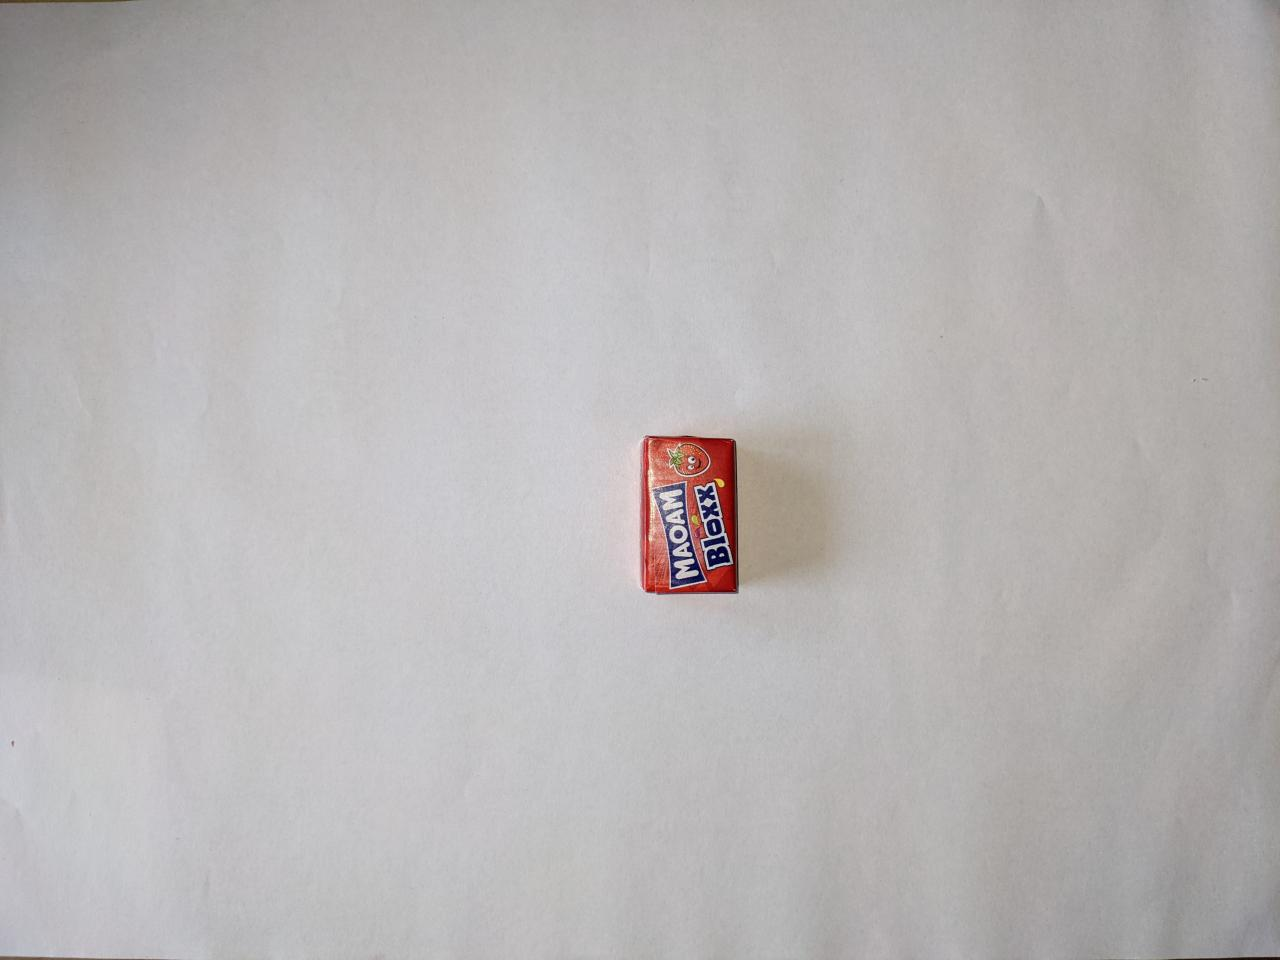MAOAM: (629, 429, 751, 604)
